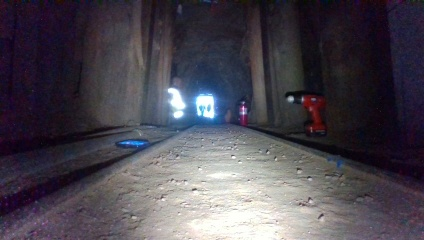cellphone: (115, 137, 149, 150)
drill: (283, 90, 330, 139)
fire_extinguisher: (238, 97, 249, 127)
manikin: (165, 75, 195, 127)
